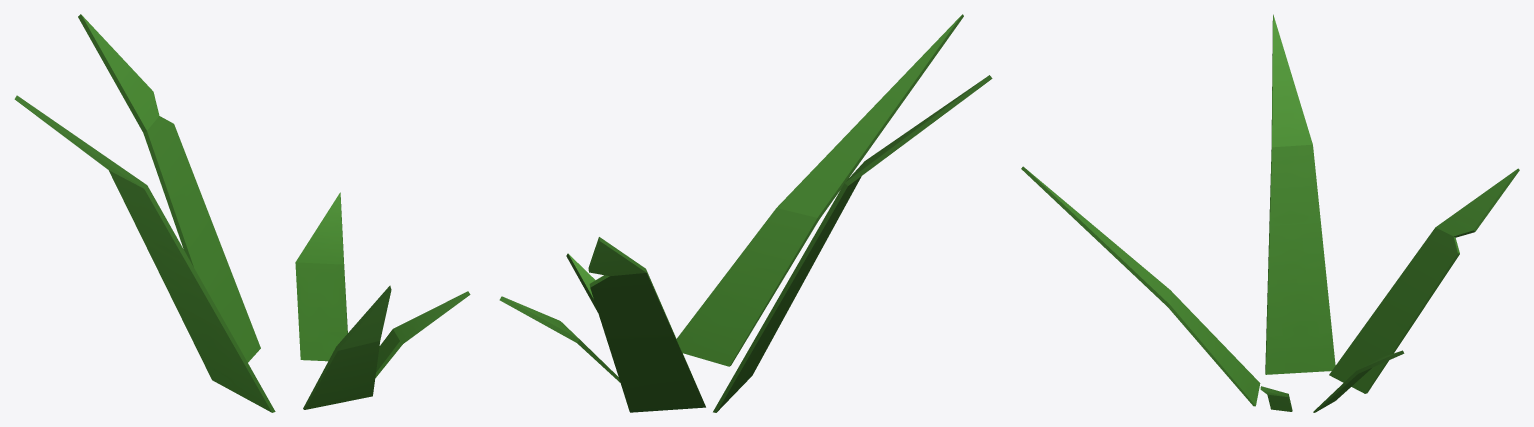
Rendered from grass_patch_05_solidified.fbx.
3 views of the same model, side by side, from view 1: azimuth 30°, elevation 25°; view 2: azimuth 150°, elevation 25°; view 3: azimuth 270°, elevation 25° (orthographic). The views are drawn at different scales.
Visible parts, largest first — view 1: grass_patch_05_solidified; view 2: grass_patch_05_solidified; view 3: grass_patch_05_solidified.
Boxes of the visible parts, bbox=[...] form: grass_patch_05_solidified: bbox=[14, 14, 470, 412]; grass_patch_05_solidified: bbox=[499, 14, 992, 412]; grass_patch_05_solidified: bbox=[1021, 14, 1519, 412].
Bounding box in the file's own units: 0.75 × 0.6 × 1.
1 material, 1 textured.
